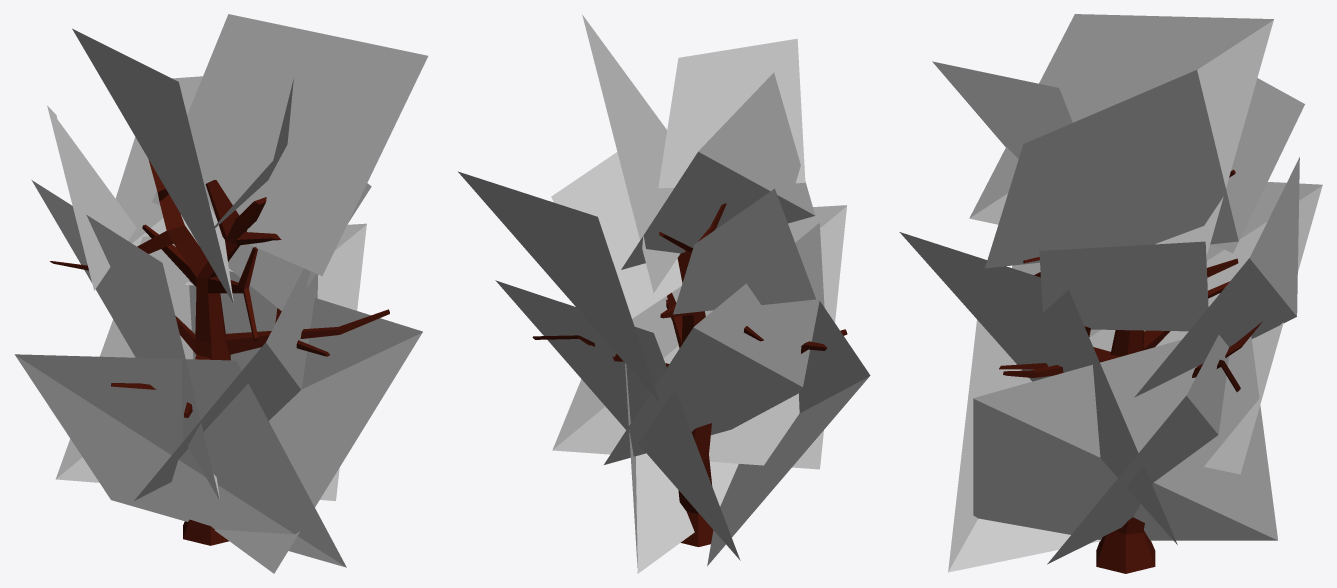
The model's file is NormalTree3.obj.
3 views of the same model, side by side, from view 1: azimuth 30°, elevation 25°; view 2: azimuth 150°, elevation 25°; view 3: azimuth 270°, elevation 25° (orthographic). The views are drawn at different scales.
Parts seen in each view (by area): view 1: Plane, Cube_Cube.001; view 2: Plane, Cube_Cube.001; view 3: Plane, Cube_Cube.001.
Part boxes in pixels (bbox=[...]): Plane: bbox=[14, 14, 428, 573]; Cube_Cube.001: bbox=[50, 159, 389, 545]; Plane: bbox=[458, 14, 870, 573]; Cube_Cube.001: bbox=[532, 203, 847, 546]; Plane: bbox=[899, 14, 1322, 572]; Cube_Cube.001: bbox=[999, 169, 1262, 573].
Size of the model in its own units: 9.32 by 11.18 by 8.34.
